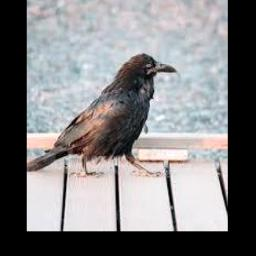Crow: (27, 53, 177, 177)
